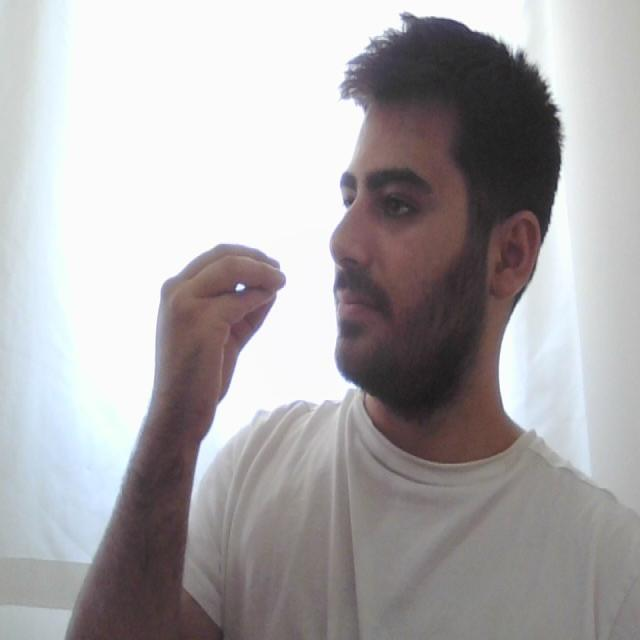Yemek: (154, 239, 372, 334)
